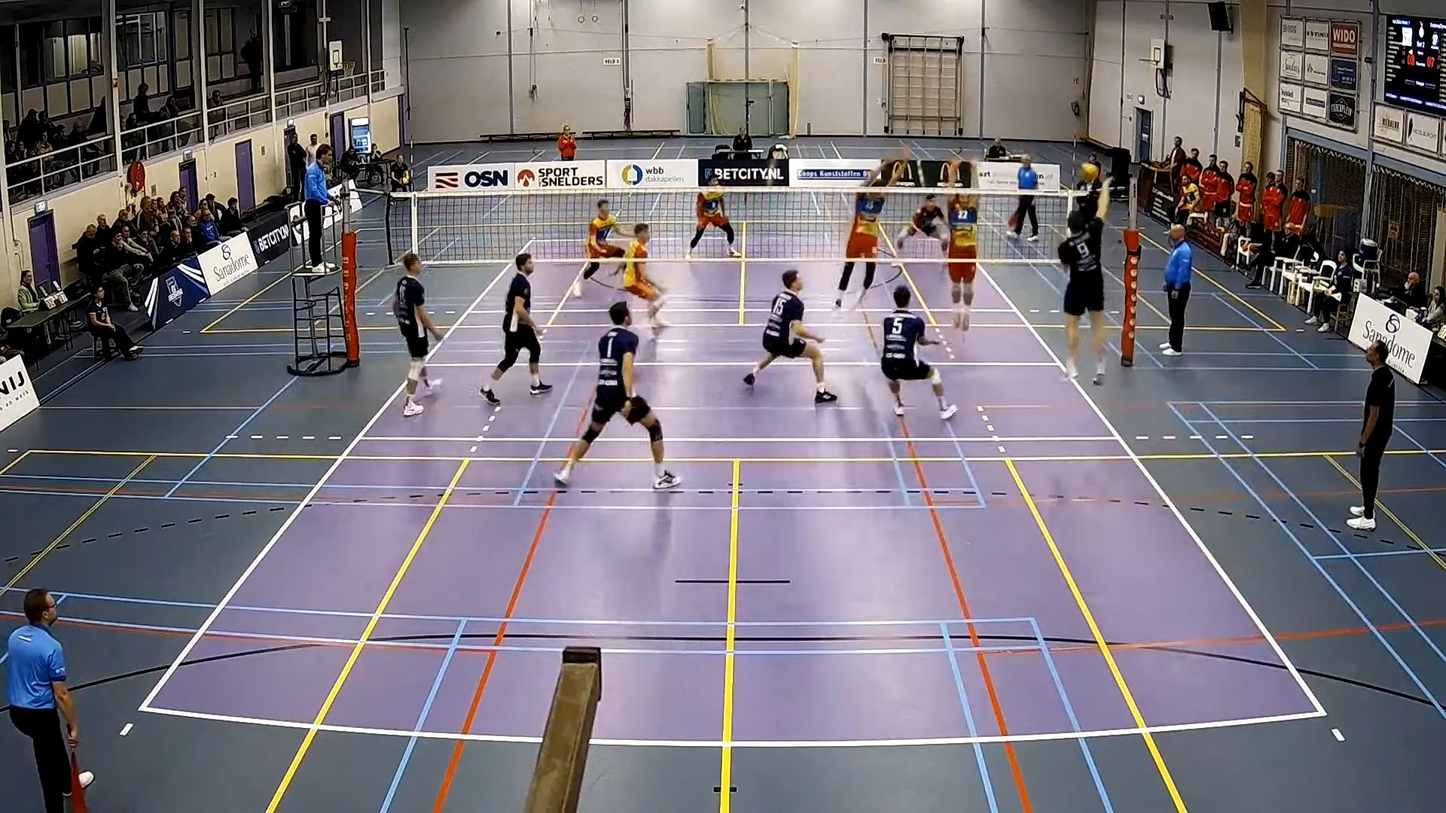Attack: (1051, 179, 1134, 386)
Block: (833, 153, 909, 304), (946, 154, 984, 336)
Player: (554, 302, 681, 489), (743, 269, 837, 402), (480, 252, 551, 403), (881, 285, 956, 419), (393, 252, 442, 416), (571, 200, 624, 297), (623, 224, 668, 331), (685, 175, 741, 258), (896, 193, 947, 246)
ball: (1081, 165, 1105, 180)
